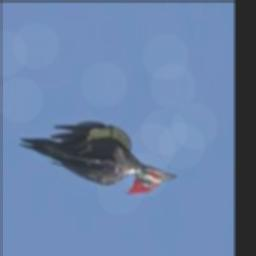Woodpecker: (18, 123, 177, 195)
